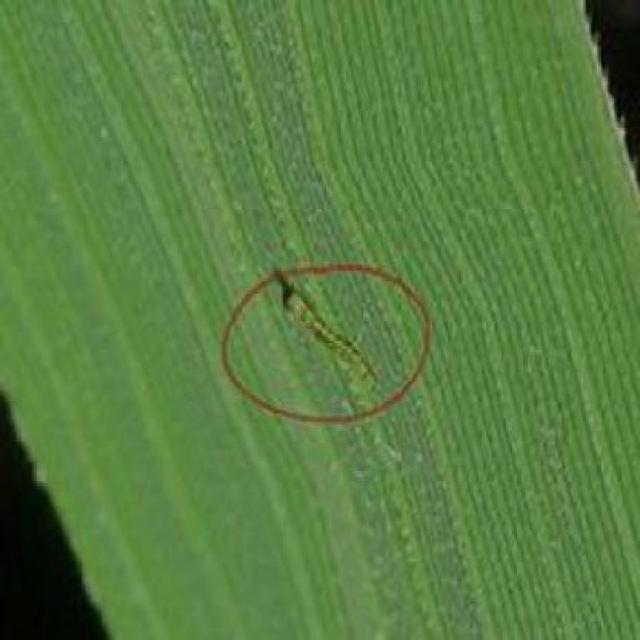leaf-folder: (270, 250, 396, 418)
